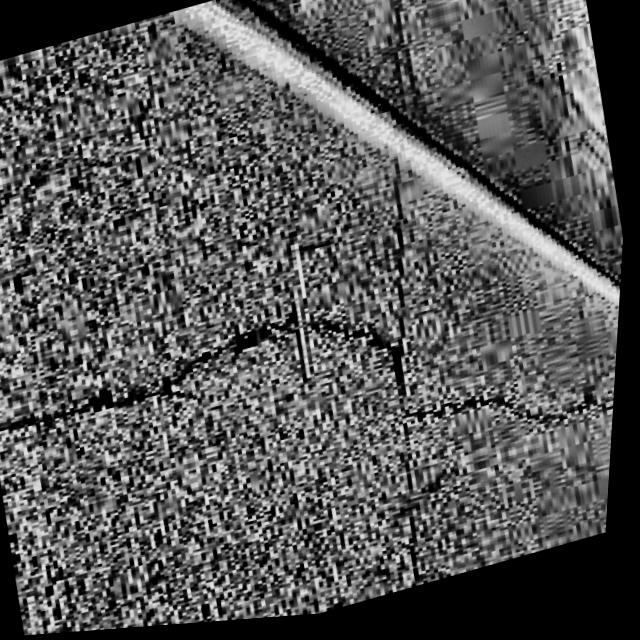cracks: (55, 316, 309, 420), (410, 404, 615, 433), (314, 327, 408, 389)
